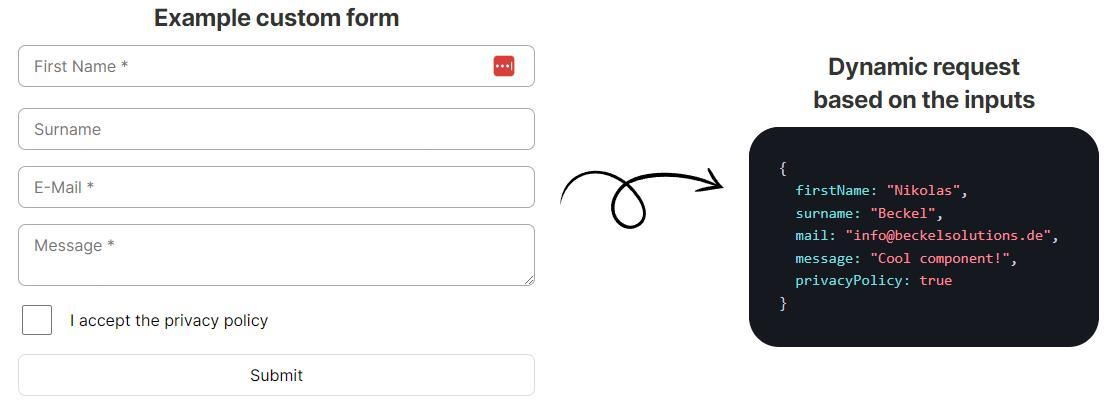button: (21, 355, 535, 397)
checkbox: (22, 305, 54, 335)
input: (18, 223, 536, 288), (19, 47, 536, 89), (20, 108, 537, 150), (19, 168, 535, 208)
label: (65, 306, 270, 336)
